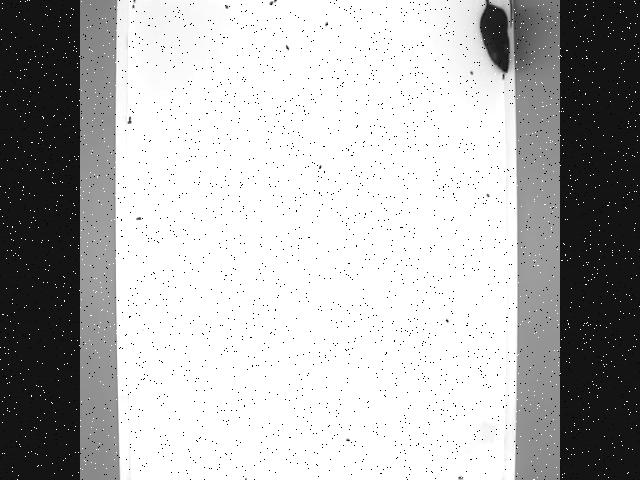Tikus: (476, 0, 515, 73)
